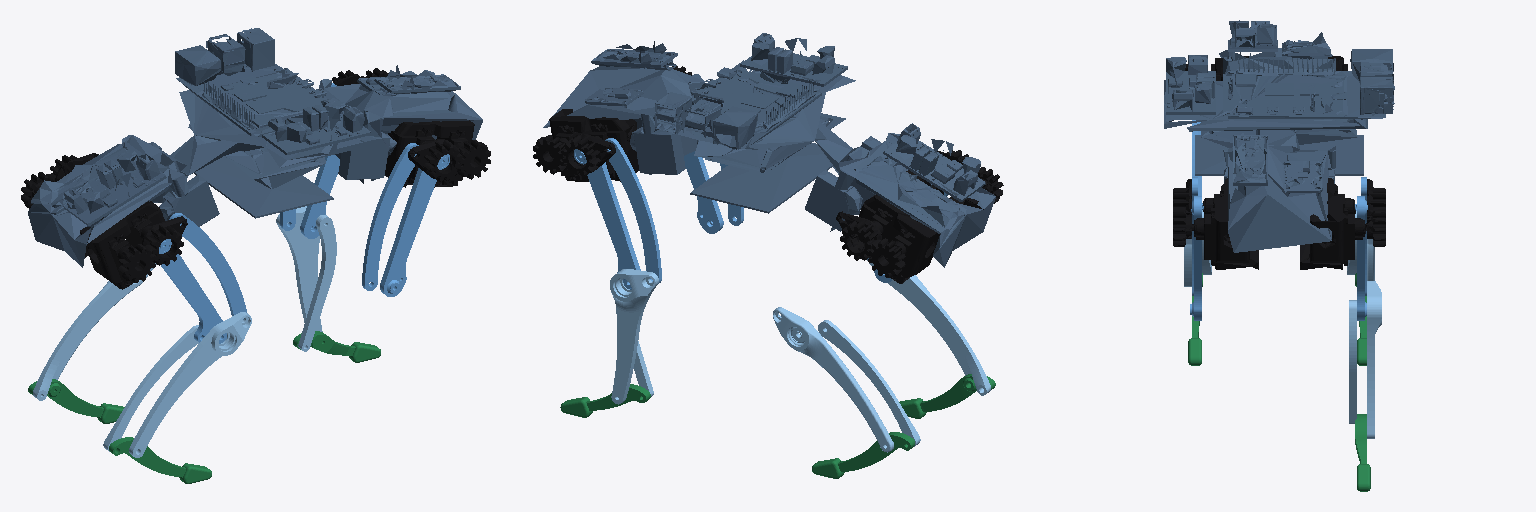
robot.urdf — fox:
<?xml version="1.0"?>
<robot name="fox">
  <link name="base">
    <inertial>
      <origin xyz="-0.000626 0.000923 0.016196" rpy="0 0 0"/>
      <mass value="0.330454"/>
      <inertia ixx="2.7830e-04" ixy="-4.0202e-06" ixz="-9.4188e-05" iyy="1.4975e-03" iyz="-9.4332e-06" izz="1.6114e-03"/>
    </inertial>
    <visual>
      <origin xyz="0.000000 0.000000 0.000000" rpy="0 0 0"/>
      <geometry><mesh filename="../meshes/visual/base.stl"/></geometry>
      <material name="base_mat"><color rgba="0.33 0.42 0.52 1"/></material>
    </visual>
    <collision>
      <origin xyz="0.000000 0.000000 0.000000" rpy="0 0 0"/>
      <geometry><mesh filename="../meshes/collision/base.stl"/></geometry>
    </collision>
  </link>
  <link name="FL_hip">
    <inertial>
      <origin xyz="0.019856 0.003726 -0.008789" rpy="0 0 0"/>
      <mass value="0.034433"/>
      <inertia ixx="6.9177e-06" ixy="-9.7846e-07" ixz="2.5022e-07" iyy="7.6799e-06" iyz="-7.5391e-07" izz="9.3946e-06"/>
    </inertial>
    <visual>
      <origin xyz="0.000000 0.000000 0.000000" rpy="0 0 0"/>
      <geometry><mesh filename="../meshes/visual/FL_hip_reduced.stl"/></geometry>
      <material name="FL_hip_mat"><color rgba="0.12 0.12 0.13 1"/></material>
    </visual>
    <collision>
      <origin xyz="0.000000 0.000000 0.000000" rpy="0 0 0"/>
      <geometry><mesh filename="../meshes/collision/FL_hip_reduced.stl"/></geometry>
    </collision>
  </link>
  <link name="FL_thigh">
    <inertial>
      <origin xyz="-0.018473 0.001557 -0.029738" rpy="0 0 0"/>
      <mass value="0.007500"/>
      <inertia ixx="4.3169e-06" ixy="-4.3816e-09" ixz="-1.4460e-06" iyy="5.5055e-06" iyz="-7.4701e-08" izz="1.2355e-06"/>
    </inertial>
    <visual>
      <origin xyz="0.000000 0.000000 0.000000" rpy="0 0 0"/>
      <geometry><mesh filename="../meshes/visual/FL_thigh_reduced.stl"/></geometry>
      <material name="FL_thigh_mat"><color rgba="0.45 0.68 0.9 1"/></material>
    </visual>
    <collision>
      <origin xyz="0.000000 0.000000 0.000000" rpy="0 0 0"/>
      <geometry><mesh filename="../meshes/collision/FL_thigh_reduced.stl"/></geometry>
    </collision>
  </link>
  <link name="FL_calf">
    <inertial>
      <origin xyz="0.000020 0.003382 -0.022507" rpy="0 0 0"/>
      <mass value="0.007846"/>
      <inertia ixx="3.9772e-06" ixy="8.3551e-08" ixz="2.0847e-07" iyy="4.0797e-06" iyz="-1.8694e-07" izz="4.5436e-07"/>
    </inertial>
    <visual>
      <origin xyz="0.000000 0.000000 0.000000" rpy="0 0 0"/>
      <geometry><mesh filename="../meshes/visual/FL_calf_reduced.stl"/></geometry>
      <material name="FL_calf_mat"><color rgba="0.62 0.8 0.95 1"/></material>
    </visual>
    <collision>
      <origin xyz="0.000000 0.000000 0.000000" rpy="0 0 0"/>
      <geometry><mesh filename="../meshes/collision/FL_calf_reduced.stl"/></geometry>
    </collision>
  </link>
  <link name="FL_foot">
    <inertial>
      <origin xyz="0.010962 -0.001369 -0.006584" rpy="0 0 0"/>
      <mass value="0.002518"/>
      <inertia ixx="1.2566e-07" ixy="-1.9020e-08" ixz="2.2656e-07" iyy="6.3852e-07" iyz="9.0232e-09" izz="5.2978e-07"/>
    </inertial>
    <visual>
      <origin xyz="0.000000 0.000000 0.000000" rpy="0 0 0"/>
      <geometry><mesh filename="../meshes/visual/FL_foot_reduced.stl"/></geometry>
      <material name="FL_foot_mat"><color rgba="0.2 0.55 0.35 1"/></material>
    </visual>
    <collision>
      <origin xyz="0.000000 0.000000 0.000000" rpy="0 0 0"/>
      <geometry><mesh filename="../meshes/collision/FL_foot_reduced.stl"/></geometry>
    </collision>
  </link>
  <link name="FR_hip">
    <inertial>
      <origin xyz="0.019816 -0.003649 -0.008746" rpy="0 0 0"/>
      <mass value="0.034433"/>
      <inertia ixx="6.9191e-06" ixy="9.6648e-07" ixz="2.6332e-07" iyy="7.7057e-06" iyz="7.5145e-07" izz="9.4166e-06"/>
    </inertial>
    <visual>
      <origin xyz="0.000000 0.000000 0.000000" rpy="0 0 0"/>
      <geometry><mesh filename="../meshes/visual/FR_hip_reduced.stl"/></geometry>
      <material name="FR_hip_mat"><color rgba="0.12 0.12 0.13 1"/></material>
    </visual>
    <collision>
      <origin xyz="0.000000 0.000000 0.000000" rpy="0 0 0"/>
      <geometry><mesh filename="../meshes/collision/FR_hip_reduced.stl"/></geometry>
    </collision>
  </link>
  <link name="FR_thigh">
    <inertial>
      <origin xyz="-0.018474 -0.001557 -0.029737" rpy="0 0 0"/>
      <mass value="0.007500"/>
      <inertia ixx="4.3174e-06" ixy="4.3939e-09" ixz="-1.4459e-06" iyy="5.5057e-06" iyz="7.4683e-08" izz="1.2353e-06"/>
    </inertial>
    <visual>
      <origin xyz="0.000000 0.000000 0.000000" rpy="0 0 0"/>
      <geometry><mesh filename="../meshes/visual/FR_thigh_reduced.stl"/></geometry>
      <material name="FR_thigh_mat"><color rgba="0.45 0.68 0.9 1"/></material>
    </visual>
    <collision>
      <origin xyz="0.000000 0.000000 0.000000" rpy="0 0 0"/>
      <geometry><mesh filename="../meshes/collision/FR_thigh_reduced.stl"/></geometry>
    </collision>
  </link>
  <link name="FR_calf">
    <inertial>
      <origin xyz="0.000019 -0.003522 -0.021599" rpy="0 0 0"/>
      <mass value="0.008175"/>
      <inertia ixx="4.1440e-06" ixy="-8.3586e-08" ixz="2.0868e-07" iyy="4.2445e-06" iyz="2.1144e-07" izz="4.6076e-07"/>
    </inertial>
    <visual>
      <origin xyz="0.000000 0.000000 0.000000" rpy="0 0 0"/>
      <geometry><mesh filename="../meshes/visual/FR_calf_reduced.stl"/></geometry>
      <material name="FR_calf_mat"><color rgba="0.62 0.8 0.95 1"/></material>
    </visual>
    <collision>
      <origin xyz="0.000000 0.000000 0.000000" rpy="0 0 0"/>
      <geometry><mesh filename="../meshes/collision/FR_calf_reduced.stl"/></geometry>
    </collision>
  </link>
  <link name="FR_foot">
    <inertial>
      <origin xyz="0.010962 0.001369 -0.006584" rpy="0 0 0"/>
      <mass value="0.002518"/>
      <inertia ixx="1.2566e-07" ixy="1.9020e-08" ixz="2.2656e-07" iyy="6.3852e-07" iyz="-9.0234e-09" izz="5.2978e-07"/>
    </inertial>
    <visual>
      <origin xyz="0.000000 0.000000 0.000000" rpy="0 0 0"/>
      <geometry><mesh filename="../meshes/visual/FR_foot_reduced.stl"/></geometry>
      <material name="FR_foot_mat"><color rgba="0.2 0.55 0.35 1"/></material>
    </visual>
    <collision>
      <origin xyz="0.000000 0.000000 0.000000" rpy="0 0 0"/>
      <geometry><mesh filename="../meshes/collision/FR_foot_reduced.stl"/></geometry>
    </collision>
  </link>
  <link name="RL_hip">
    <inertial>
      <origin xyz="-0.018042 0.003694 -0.011745" rpy="0 0 0"/>
      <mass value="0.034933"/>
      <inertia ixx="7.2124e-06" ixy="1.0926e-06" ixz="-6.1523e-07" iyy="7.9127e-06" iyz="-5.7015e-07" izz="9.3532e-06"/>
    </inertial>
    <visual>
      <origin xyz="0.000000 0.000000 0.000000" rpy="0 0 0"/>
      <geometry><mesh filename="../meshes/visual/RL_hip_reduced.stl"/></geometry>
      <material name="RL_hip_mat"><color rgba="0.12 0.12 0.13 1"/></material>
    </visual>
    <collision>
      <origin xyz="0.000000 0.000000 0.000000" rpy="0 0 0"/>
      <geometry><mesh filename="../meshes/collision/RL_hip_reduced.stl"/></geometry>
    </collision>
  </link>
  <link name="RL_thigh">
    <inertial>
      <origin xyz="0.023411 0.001546 -0.026990" rpy="0 0 0"/>
      <mass value="0.007764"/>
      <inertia ixx="4.0502e-06" ixy="2.1345e-08" ixz="1.9562e-06" iyy="5.8560e-06" iyz="-8.3252e-08" izz="1.8560e-06"/>
    </inertial>
    <visual>
      <origin xyz="0.000000 0.000000 0.000000" rpy="0 0 0"/>
      <geometry><mesh filename="../meshes/visual/RL_thigh_reduced.stl"/></geometry>
      <material name="RL_thigh_mat"><color rgba="0.45 0.68 0.9 1"/></material>
    </visual>
    <collision>
      <origin xyz="0.000000 0.000000 0.000000" rpy="0 0 0"/>
      <geometry><mesh filename="../meshes/collision/RL_thigh_reduced.stl"/></geometry>
    </collision>
  </link>
  <link name="RL_calf">
    <inertial>
      <origin xyz="-0.022089 0.001955 -0.015987" rpy="0 0 0"/>
      <mass value="0.007357"/>
      <inertia ixx="2.5474e-06" ixy="-3.7810e-07" ixz="-2.6205e-06" iyy="5.7595e-06" iyz="-1.7188e-07" izz="3.5120e-06"/>
    </inertial>
    <visual>
      <origin xyz="0.000000 0.000000 0.000000" rpy="0 0 0"/>
      <geometry><mesh filename="../meshes/visual/RL_calf_reduced.stl"/></geometry>
      <material name="RL_calf_mat"><color rgba="0.62 0.8 0.95 1"/></material>
    </visual>
    <collision>
      <origin xyz="0.000000 0.000000 0.000000" rpy="0 0 0"/>
      <geometry><mesh filename="../meshes/collision/RL_calf_reduced.stl"/></geometry>
    </collision>
  </link>
  <link name="RL_foot">
    <inertial>
      <origin xyz="0.017232 -0.001193 -0.012323" rpy="0 0 0"/>
      <mass value="0.003072"/>
      <inertia ixx="3.3629e-07" ixy="-2.1672e-08" ixz="5.0888e-07" iyy="1.2058e-06" iyz="1.3432e-08" izz="8.8582e-07"/>
    </inertial>
    <visual>
      <origin xyz="0.000000 0.000000 0.000000" rpy="0 0 0"/>
      <geometry><mesh filename="../meshes/visual/RL_foot_reduced.stl"/></geometry>
      <material name="RL_foot_mat"><color rgba="0.2 0.55 0.35 1"/></material>
    </visual>
    <collision>
      <origin xyz="0.000000 0.000000 0.000000" rpy="0 0 0"/>
      <geometry><mesh filename="../meshes/collision/RL_foot_reduced.stl"/></geometry>
    </collision>
  </link>
  <link name="RR_hip">
    <inertial>
      <origin xyz="-0.017611 -0.003350 -0.012497" rpy="0 0 0"/>
      <mass value="0.036423"/>
      <inertia ixx="7.5706e-06" ixy="-1.2220e-06" ixz="-5.5918e-07" iyy="8.4806e-06" iyz="6.9516e-07" izz="9.7754e-06"/>
    </inertial>
    <visual>
      <origin xyz="0.000000 0.000000 0.000000" rpy="0 0 0"/>
      <geometry><mesh filename="../meshes/visual/RR_hip_reduced.stl"/></geometry>
      <material name="RR_hip_mat"><color rgba="0.12 0.12 0.13 1"/></material>
    </visual>
    <collision>
      <origin xyz="0.000000 0.000000 0.000000" rpy="0 0 0"/>
      <geometry><mesh filename="../meshes/collision/RR_hip_reduced.stl"/></geometry>
    </collision>
  </link>
  <link name="RR_thigh">
    <inertial>
      <origin xyz="0.023518 -0.001281 -0.027078" rpy="0 0 0"/>
      <mass value="0.007674"/>
      <inertia ixx="3.9569e-06" ixy="-1.8372e-08" ixz="1.9148e-06" iyy="5.7349e-06" iyz="7.8968e-08" izz="1.8257e-06"/>
    </inertial>
    <visual>
      <origin xyz="0.000000 0.000000 0.000000" rpy="0 0 0"/>
      <geometry><mesh filename="../meshes/visual/RR_thigh_reduced.stl"/></geometry>
      <material name="RR_thigh_mat"><color rgba="0.45 0.68 0.9 1"/></material>
    </visual>
    <collision>
      <origin xyz="0.000000 0.000000 0.000000" rpy="0 0 0"/>
      <geometry><mesh filename="../meshes/collision/RR_thigh_reduced.stl"/></geometry>
    </collision>
  </link>
  <link name="RR_calf">
    <inertial>
      <origin xyz="-0.023052 -0.001779 -0.016706" rpy="0 0 0"/>
      <mass value="0.006965"/>
      <inertia ixx="2.4144e-06" ixy="3.3609e-07" ixz="-2.4674e-06" iyy="5.4365e-06" iyz="1.3960e-07" izz="3.3034e-06"/>
    </inertial>
    <visual>
      <origin xyz="0.000000 0.000000 0.000000" rpy="0 0 0"/>
      <geometry><mesh filename="../meshes/visual/RR_calf_reduced.stl"/></geometry>
      <material name="RR_calf_mat"><color rgba="0.62 0.8 0.95 1"/></material>
    </visual>
    <collision>
      <origin xyz="0.000000 0.000000 0.000000" rpy="0 0 0"/>
      <geometry><mesh filename="../meshes/collision/RR_calf_reduced.stl"/></geometry>
    </collision>
  </link>
  <link name="RR_foot">
    <inertial>
      <origin xyz="0.017673 0.001177 -0.012590" rpy="0 0 0"/>
      <mass value="0.003009"/>
      <inertia ixx="3.2552e-07" ixy="2.0770e-08" ixz="4.9138e-07" iyy="1.1650e-06" iyz="-1.2848e-08" izz="8.5545e-07"/>
    </inertial>
    <visual>
      <origin xyz="0.000000 0.000000 0.000000" rpy="0 0 0"/>
      <geometry><mesh filename="../meshes/visual/RR_foot_reduced.stl"/></geometry>
      <material name="RR_foot_mat"><color rgba="0.2 0.55 0.35 1"/></material>
    </visual>
    <collision>
      <origin xyz="0.000000 0.000000 0.000000" rpy="0 0 0"/>
      <geometry><mesh filename="../meshes/collision/RR_foot_reduced.stl"/></geometry>
    </collision>
  </link>
  <joint name="FL_hip_joint" type="revolute">
    <origin xyz="0.071686 0.024238 0.007390" rpy="0 0 0"/>
    <parent link="base"/>
    <child link="FL_hip"/>
    <axis xyz="0.984808 0 -0.173648"/>
    <limit lower="-0.5000" upper="0.5000" effort="0.470" velocity="10.50"/>
    <dynamics damping="0" friction="0"/>
  </joint>
  <joint name="FL_thigh_joint" type="revolute">
    <origin xyz="0.013073 0.017273 -0.002610" rpy="0 0 0"/>
    <parent link="FL_hip"/>
    <child link="FL_thigh"/>
    <axis xyz="0 1 0"/>
    <limit lower="-1.2000" upper="1.2000" effort="0.940" velocity="10.50"/>
    <dynamics damping="0" friction="0"/>
  </joint>
  <joint name="FL_calf_joint" type="revolute">
    <origin xyz="-0.026269 0.000000 -0.070249" rpy="0 0 0"/>
    <parent link="FL_thigh"/>
    <child link="FL_calf"/>
    <axis xyz="0 1 0"/>
    <limit lower="-1.2000" upper="1.2000" effort="0.470" velocity="10.50"/>
    <dynamics damping="0" friction="0"/>
  </joint>
  <joint name="FL_foot_joint" type="revolute">
    <origin xyz="0.005365 0.002750 -0.067459" rpy="0 0 0"/>
    <parent link="FL_calf"/>
    <child link="FL_foot"/>
    <axis xyz="-0 1 0"/>
    <limit lower="-3.1416" upper="3.1416" effort="10.000" velocity="50.00"/>
    <dynamics damping="0" friction="0"/>
    <mimic joint="FL_calf_joint" multiplier="0.358775" offset="0"/>
  </joint>
  <joint name="FR_hip_joint" type="revolute">
    <origin xyz="0.071686 -0.024262 0.007390" rpy="0 0 0"/>
    <parent link="base"/>
    <child link="FR_hip"/>
    <axis xyz="0.984808 0 -0.173648"/>
    <limit lower="-0.5000" upper="0.5000" effort="0.470" velocity="10.50"/>
    <dynamics damping="0" friction="0"/>
  </joint>
  <joint name="FR_thigh_joint" type="revolute">
    <origin xyz="0.013073 -0.017248 -0.002610" rpy="0 0 0"/>
    <parent link="FR_hip"/>
    <child link="FR_thigh"/>
    <axis xyz="0 1 0"/>
    <limit lower="-1.2000" upper="1.2000" effort="0.940" velocity="10.50"/>
    <dynamics damping="0" friction="0"/>
  </joint>
  <joint name="FR_calf_joint" type="revolute">
    <origin xyz="-0.026269 0.000000 -0.070249" rpy="0 0 0"/>
    <parent link="FR_thigh"/>
    <child link="FR_calf"/>
    <axis xyz="0 1 0"/>
    <limit lower="-1.2000" upper="1.2000" effort="0.470" velocity="10.50"/>
    <dynamics damping="0" friction="0"/>
  </joint>
  <joint name="FR_foot_joint" type="revolute">
    <origin xyz="0.005365 -0.002750 -0.067459" rpy="0 0 0"/>
    <parent link="FR_calf"/>
    <child link="FR_foot"/>
    <axis xyz="-0 1 0"/>
    <limit lower="-3.1416" upper="3.1416" effort="10.000" velocity="50.00"/>
    <dynamics damping="0" friction="0"/>
    <mimic joint="FR_calf_joint" multiplier="0.358775" offset="0"/>
  </joint>
  <joint name="RL_hip_joint" type="revolute">
    <origin xyz="-0.073606 0.024238 -0.000351" rpy="0 0 0"/>
    <parent link="base"/>
    <child link="RL_hip"/>
    <axis xyz="0.939693 0 0.34202"/>
    <limit lower="-0.5000" upper="0.5000" effort="0.470" velocity="10.50"/>
    <dynamics damping="0" friction="0"/>
  </joint>
  <joint name="RL_thigh_joint" type="revolute">
    <origin xyz="-0.012394 0.017273 -0.004429" rpy="0 0 0"/>
    <parent link="RL_hip"/>
    <child link="RL_thigh"/>
    <axis xyz="-0 1 -0"/>
    <limit lower="-1.2000" upper="1.2000" effort="0.940" velocity="10.50"/>
    <dynamics damping="0" friction="0"/>
  </joint>
  <joint name="RL_calf_joint" type="revolute">
    <origin xyz="0.038069 0.001750 -0.064620" rpy="0 0 0"/>
    <parent link="RL_thigh"/>
    <child link="RL_calf"/>
    <axis xyz="0 1 0"/>
    <limit lower="-1.2000" upper="0.7400" effort="0.470" velocity="10.50"/>
    <dynamics damping="0" friction="0"/>
  </joint>
  <joint name="RL_foot_joint" type="revolute">
    <origin xyz="-0.052566 0.001000 -0.053496" rpy="0 0 0"/>
    <parent link="RL_calf"/>
    <child link="RL_foot"/>
    <axis xyz="-0 1 0"/>
    <limit lower="-3.1416" upper="3.1416" effort="10.000" velocity="50.00"/>
    <dynamics damping="0" friction="0"/>
    <mimic joint="RL_calf_joint" multiplier="-1.000000" offset="0"/>
  </joint>
  <joint name="RR_hip_joint" type="revolute">
    <origin xyz="-0.073382 -0.024238 -0.000188" rpy="0 0 0"/>
    <parent link="base"/>
    <child link="RR_hip"/>
    <axis xyz="0.939693 0 0.34202"/>
    <limit lower="-0.5000" upper="0.5000" effort="0.470" velocity="10.50"/>
    <dynamics damping="0" friction="0"/>
  </joint>
  <joint name="RR_thigh_joint" type="revolute">
    <origin xyz="-0.012618 -0.017522 -0.004593" rpy="0 0 0"/>
    <parent link="RR_hip"/>
    <child link="RR_thigh"/>
    <axis xyz="-0 1 -0"/>
    <limit lower="-1.2000" upper="1.2000" effort="0.940" velocity="10.50"/>
    <dynamics damping="0" friction="0"/>
  </joint>
  <joint name="RR_calf_joint" type="revolute">
    <origin xyz="0.038069 -0.001500 -0.064620" rpy="0 0 0"/>
    <parent link="RR_thigh"/>
    <child link="RR_calf"/>
    <axis xyz="0 1 0"/>
    <limit lower="-1.2000" upper="0.7400" effort="0.470" velocity="10.50"/>
    <dynamics damping="0" friction="0"/>
  </joint>
  <joint name="RR_foot_joint" type="revolute">
    <origin xyz="-0.052566 -0.001000 -0.053496" rpy="0 0 0"/>
    <parent link="RR_calf"/>
    <child link="RR_foot"/>
    <axis xyz="-0 1 0"/>
    <limit lower="-3.1416" upper="3.1416" effort="10.000" velocity="50.00"/>
    <dynamics damping="0" friction="0"/>
    <mimic joint="RR_calf_joint" multiplier="-1.000000" offset="0"/>
  </joint>
</robot>

--- Facts derived from the render (not from the file) ---
The picture shows the robot from 3 angles, left to right: view 1: azimuth 30°, elevation 25°; view 2: azimuth 150°, elevation 25°; view 3: azimuth 270°, elevation 25°; orthographic projection.
Model fox with 17 links and 16 joints (16 revolute), rooted at base, posed all joints at 0.
Links seen in each view (by area): view 1: base, RR_calf, RR_hip, FR_thigh, FR_hip, FL_calf, RR_thigh, RL_calf, FL_thigh, RR_foot, RL_foot, FL_foot (+1 smaller); view 2: base, RL_hip, RL_calf, FL_hip, FL_thigh, FL_calf, RR_calf, FR_thigh, RL_foot, RR_foot, FL_foot, RR_hip; view 3: base, FL_hip, FR_hip, FL_calf, FR_thigh, FL_thigh, FL_foot, RR_calf, RR_foot.
Boxes of the visible links, <box> form: base: <box>28,28,482,267</box>; RR_calf: <box>103,312,251,457</box>; RR_hip: <box>80,201,187,289</box>; FR_thigh: <box>362,143,449,296</box>; FR_hip: <box>385,120,490,187</box>; FL_calf: <box>276,206,336,351</box>; RR_thigh: <box>159,213,246,343</box>; RL_calf: <box>33,263,156,400</box>; FL_thigh: <box>280,83,339,238</box>; RR_foot: <box>109,437,211,483</box>; RL_foot: <box>28,379,124,423</box>; FL_foot: <box>293,331,380,362</box>; base: <box>543,33,995,267</box>; RL_hip: <box>836,194,939,283</box>; RL_calf: <box>773,307,920,452</box>; FL_hip: <box>533,109,638,181</box>; FL_thigh: <box>574,138,661,289</box>; FL_calf: <box>610,269,658,404</box>; RR_calf: <box>867,260,990,395</box>; FR_thigh: <box>684,151,743,233</box>; RL_foot: <box>812,432,914,478</box>; RR_foot: <box>899,374,995,418</box>; FL_foot: <box>560,384,650,417</box>; RR_hip: <box>906,150,1003,209</box>; base: <box>1164,20,1394,252</box>; FL_hip: <box>1300,178,1385,269</box>; FR_hip: <box>1173,178,1258,269</box>; FL_calf: <box>1349,281,1381,438</box>; FR_thigh: <box>1190,177,1203,320</box>; FL_thigh: <box>1355,177,1367,320</box>; FL_foot: <box>1355,414,1370,491</box>; RR_calf: <box>1184,210,1211,286</box>; RR_foot: <box>1188,273,1202,365</box>.
Size in the robot's own frame: 0.249 by 0.1195 by 0.2019 metres.
14 mesh visuals loaded from 17 distinct referenced files (14 binary STL); not drawn: 3 (reference not matched to a file when rendering).
